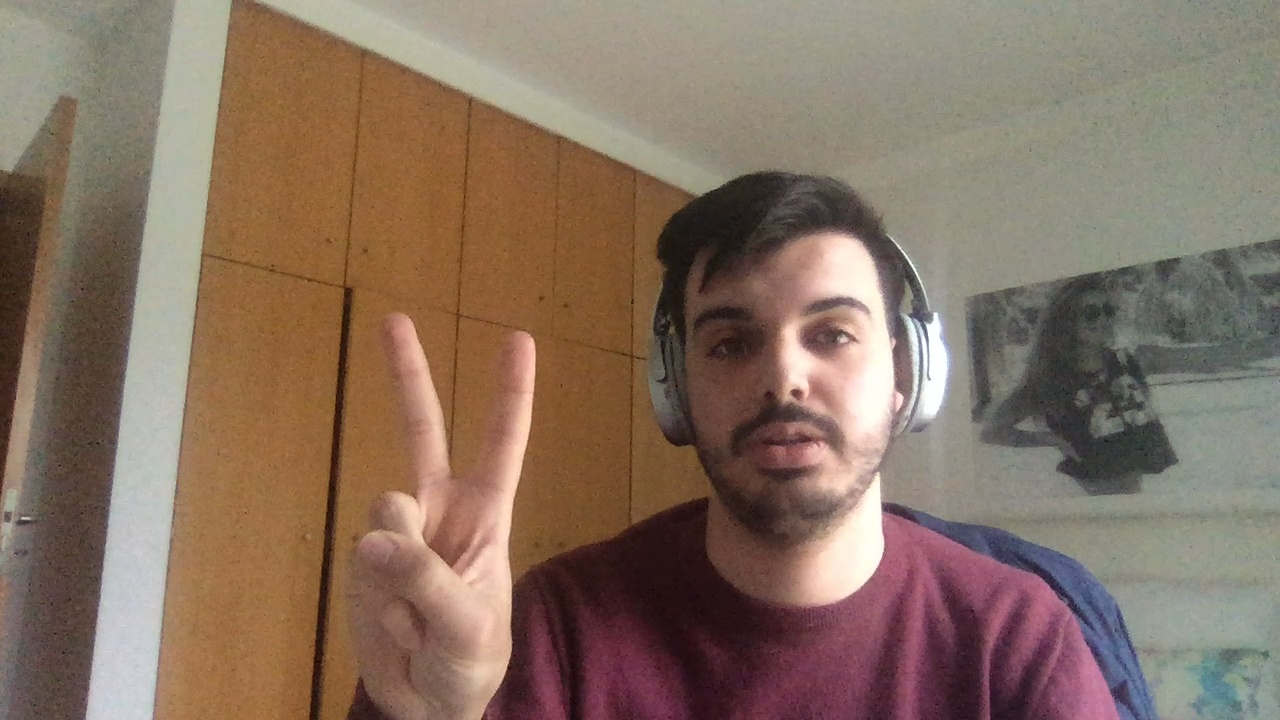Peace: (361, 313, 536, 672)
